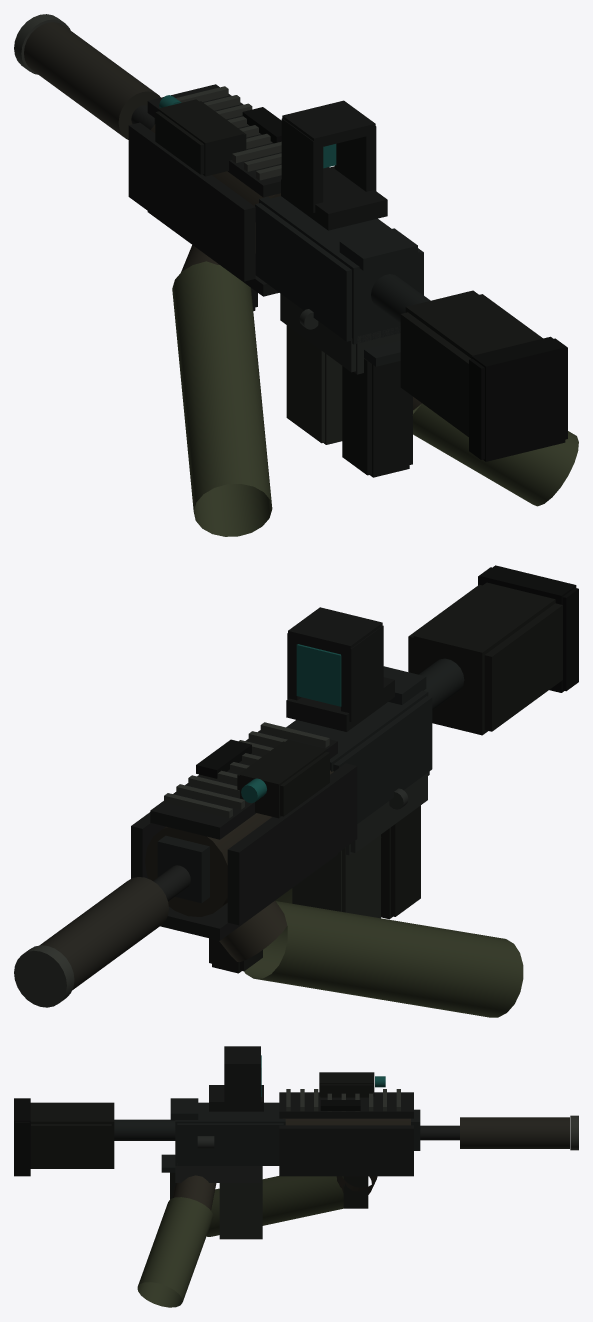
Rendered from viewmodel.obj.
The picture shows the model from 3 angles, top to bottom: view 1: azimuth 30°, elevation 25°; view 2: azimuth 150°, elevation 25°; view 3: azimuth 270°, elevation 25°; orthographic projection. The views are drawn at different scales.
Visible parts, largest first — view 1: METSE_M4A1_Viewmodel; view 2: METSE_M4A1_Viewmodel; view 3: METSE_M4A1_Viewmodel.
Boxes of the visible parts, x1,y1,x2,y2 form: METSE_M4A1_Viewmodel: [14, 14, 578, 536]; METSE_M4A1_Viewmodel: [14, 565, 578, 1017]; METSE_M4A1_Viewmodel: [14, 1046, 578, 1307].
Bounding box in the file's own units: 0.7384 × 0.7743 × 1.85.
